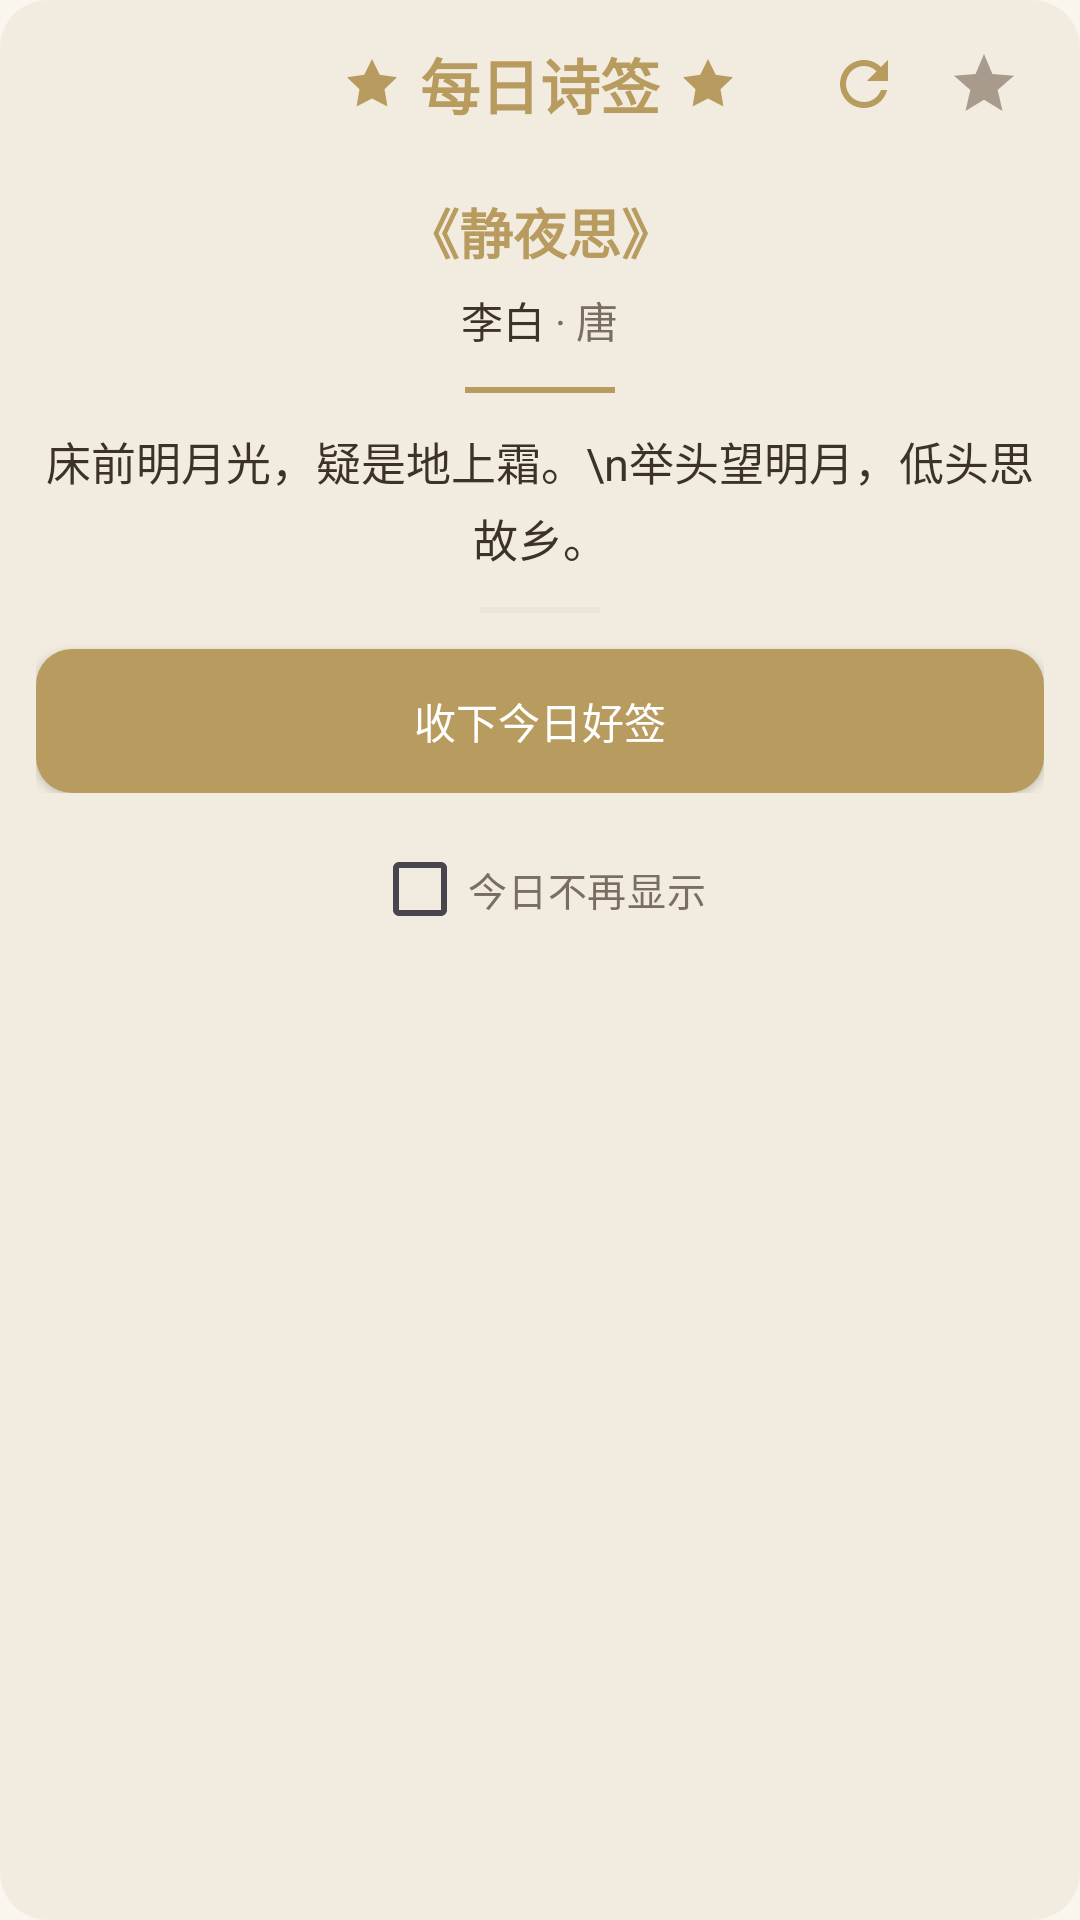

Screen size 1080×1920. Icon name, then its box in pixels as {"left": x1, "top": y1, "right": x2, "bottom": y2}:
换一首: {"left": 840, "top": 60, "right": 888, "bottom": 108}
收藏诗词: {"left": 955, "top": 55, "right": 1013, "bottom": 111}
装饰: {"left": 347, "top": 59, "right": 397, "bottom": 106}, {"left": 683, "top": 59, "right": 733, "bottom": 106}
